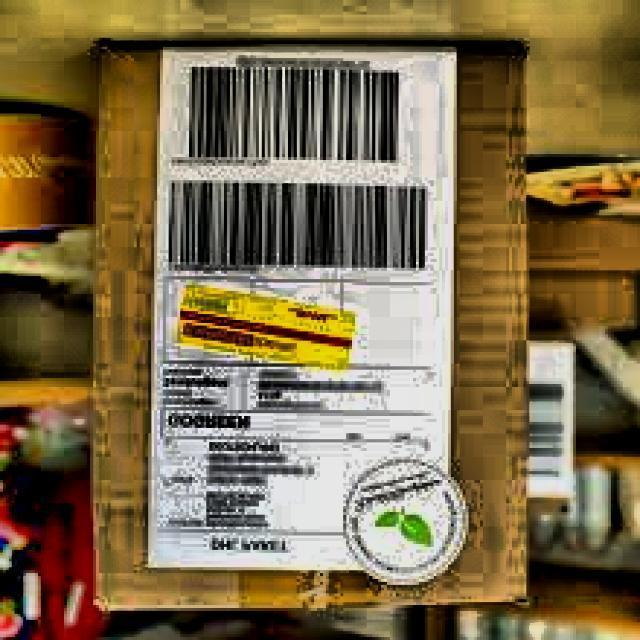cardboard: (88, 41, 530, 614)
